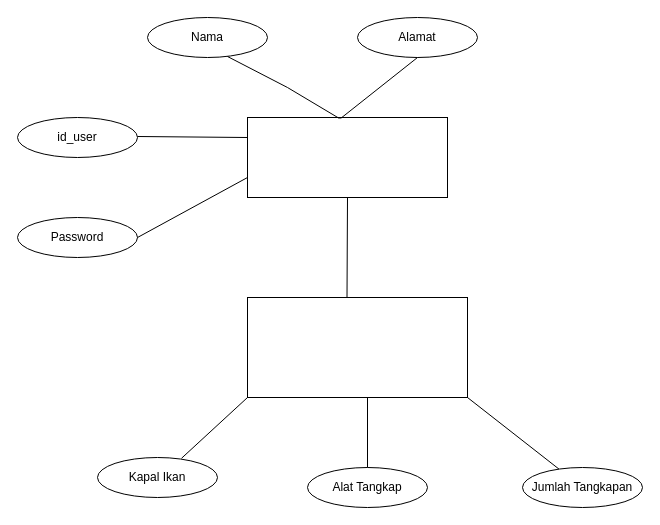
Some shapes in this 660 by 525 pixel diagram are drawn without their labels. The shapes that lost their labels are listed below. From the top down, each one's centre as x and y in pixels, then its label:
(x=347, y=157): USER
(x=357, y=347): DATA PERIKANAN
